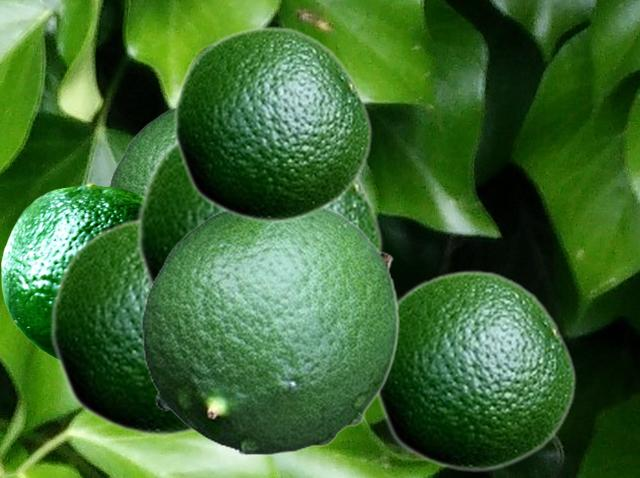calamansi: (141, 206, 398, 454), (374, 269, 576, 472), (172, 25, 372, 223), (135, 141, 383, 289), (49, 215, 197, 437), (1, 182, 140, 359), (107, 106, 172, 193)
